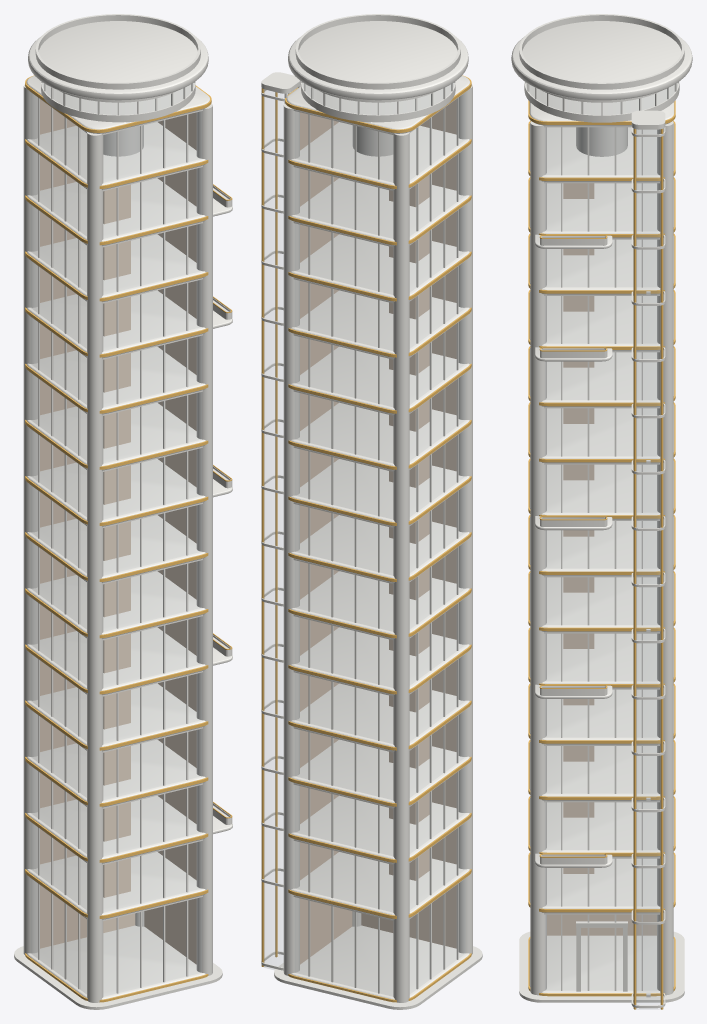
The model's file is concentration-tower-high.glb.
3 renders of one model, left to right at view 1: azimuth 30°, elevation 25°; view 2: azimuth 150°, elevation 25°; view 3: azimuth 270°, elevation 25°, orthographic.
Visible parts, largest first — view 1: TOWER_HIGH_se_white, TOWER_HIGH_se_pane, TOWER_HIGH_se_room, TOWER_HIGH_se_amber; view 2: TOWER_HIGH_se_white, TOWER_HIGH_se_pane, TOWER_HIGH_se_room, TOWER_HIGH_se_amber; view 3: TOWER_HIGH_se_white, TOWER_HIGH_se_pane, TOWER_HIGH_se_amber, TOWER_HIGH_se_room.
Part boxes in pixels (x1,y1,x2,y2): TOWER_HIGH_se_white: [14, 14, 232, 1009]; TOWER_HIGH_se_pane: [31, 83, 201, 995]; TOWER_HIGH_se_room: [40, 99, 196, 964]; TOWER_HIGH_se_amber: [25, 75, 232, 1002]; TOWER_HIGH_se_white: [261, 14, 482, 1009]; TOWER_HIGH_se_pane: [264, 83, 465, 995]; TOWER_HIGH_se_room: [300, 99, 456, 964]; TOWER_HIGH_se_amber: [261, 75, 471, 1002]; TOWER_HIGH_se_white: [511, 14, 692, 1008]; TOWER_HIGH_se_pane: [526, 83, 677, 1009]; TOWER_HIGH_se_amber: [528, 100, 675, 1009]; TOWER_HIGH_se_room: [547, 183, 656, 935].
Bounding box in the file's own units: 7.45 × 39.2 × 7.
